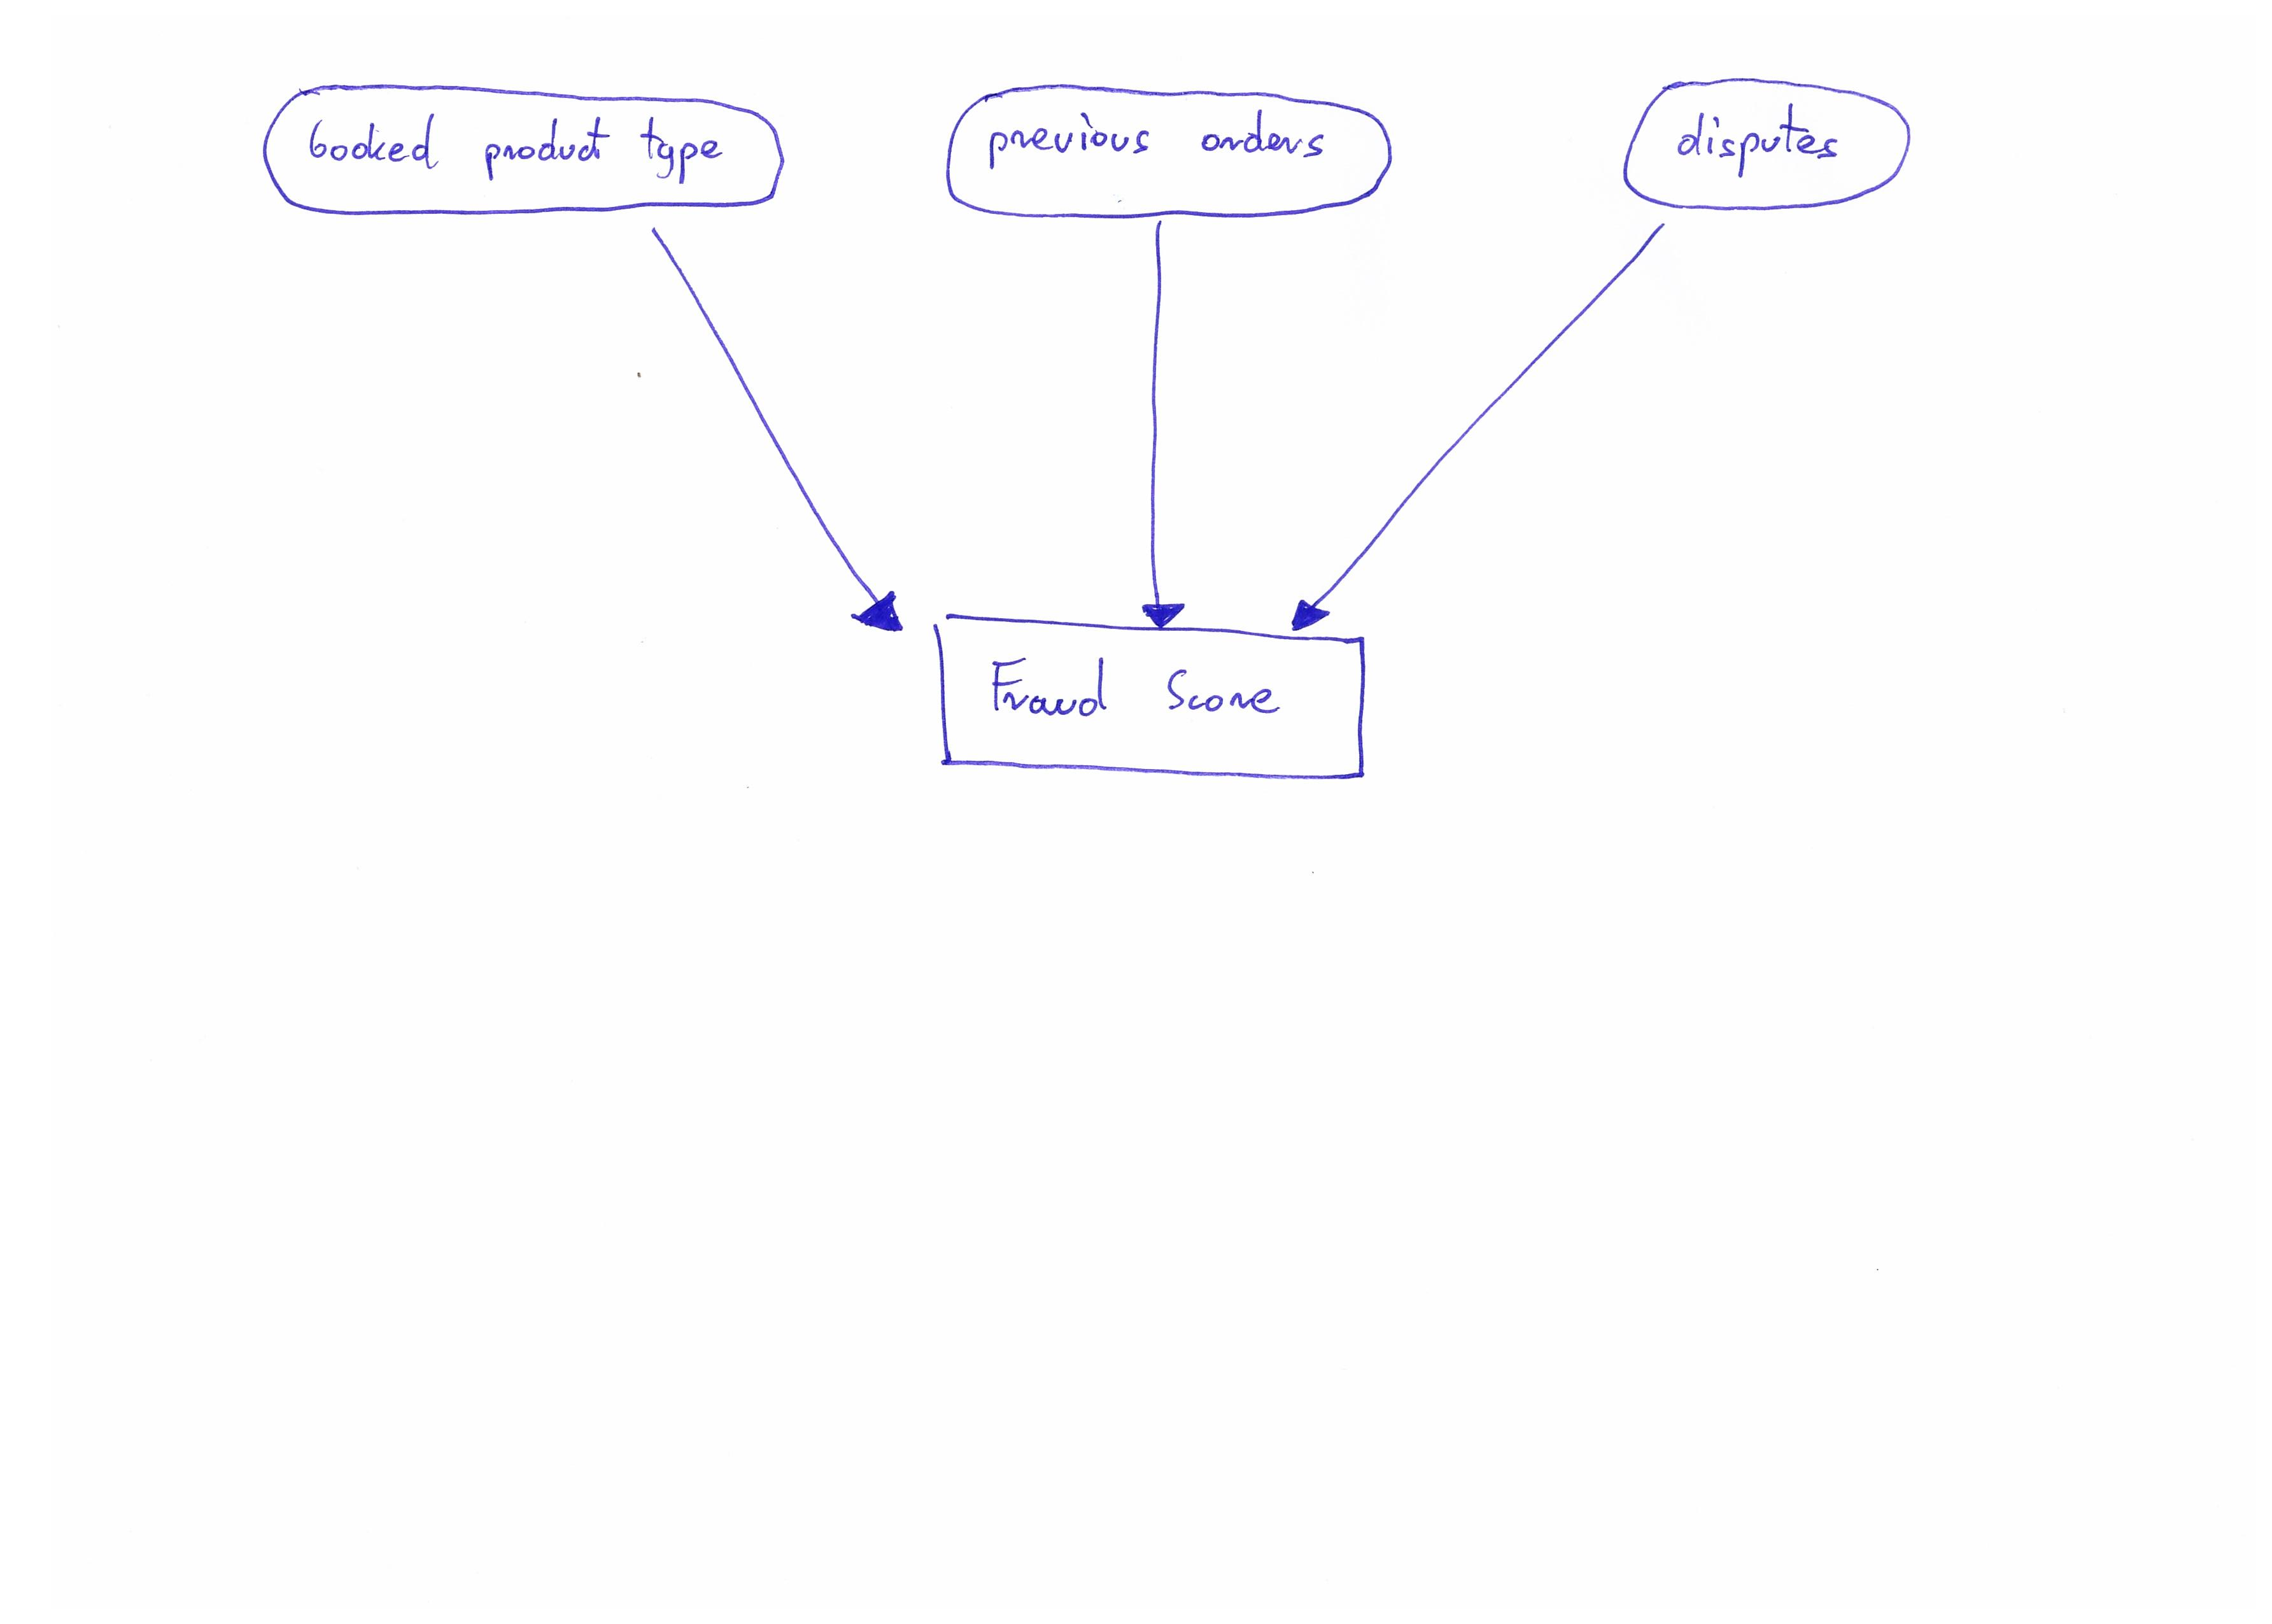arrow_information_requirement: (1281, 218, 1683, 631), (634, 214, 917, 649), (1133, 214, 1186, 633)
node_decision: (928, 613, 1374, 791)
node_input_data: (250, 69, 801, 216), (937, 72, 1404, 225), (1618, 62, 1919, 218)
text: (300, 104, 738, 188), (982, 649, 1304, 749), (979, 107, 1341, 174), (1675, 100, 1849, 188)
